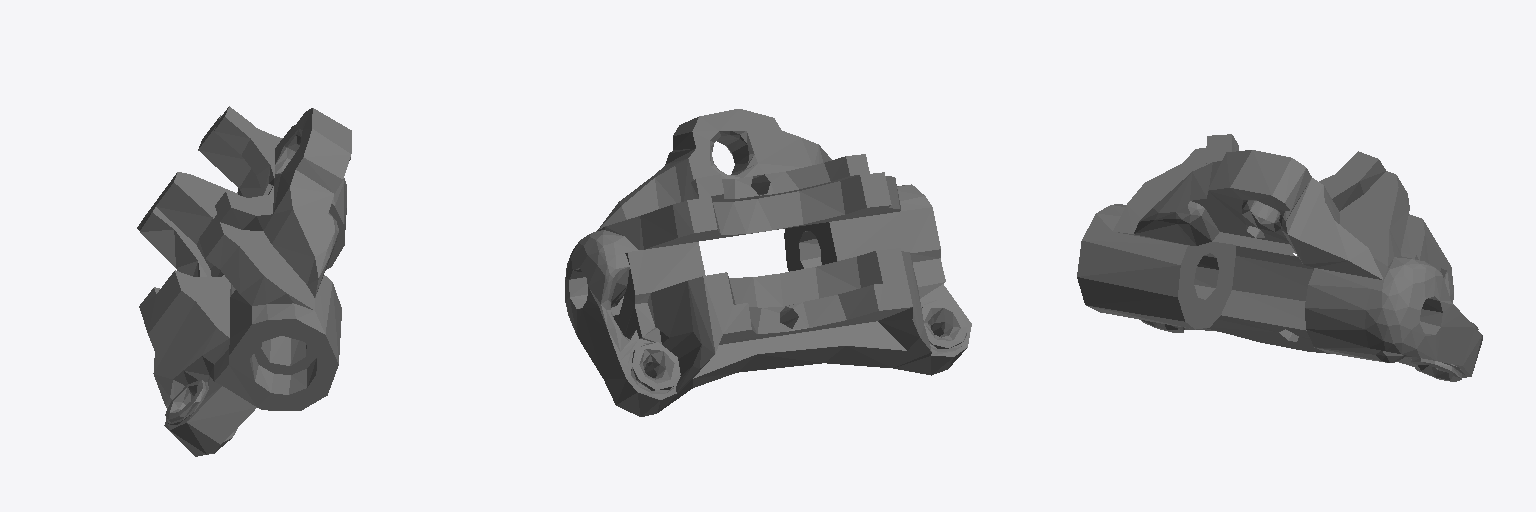
The model's file is hand_wrist1.obj.
3 views of the same model, side by side, from view 1: azimuth 30°, elevation 25°; view 2: azimuth 150°, elevation 25°; view 3: azimuth 270°, elevation 25° (orthographic).
Visible parts, largest first — view 1: wrist1; view 2: wrist1; view 3: wrist1.
Part boxes in pixels (bbox=[...]): wrist1: bbox=[137, 106, 351, 456]; wrist1: bbox=[565, 109, 971, 416]; wrist1: bbox=[1077, 134, 1482, 381].
Size of the model in its own units: 0.1464 by 0.1258 by 0.1799.